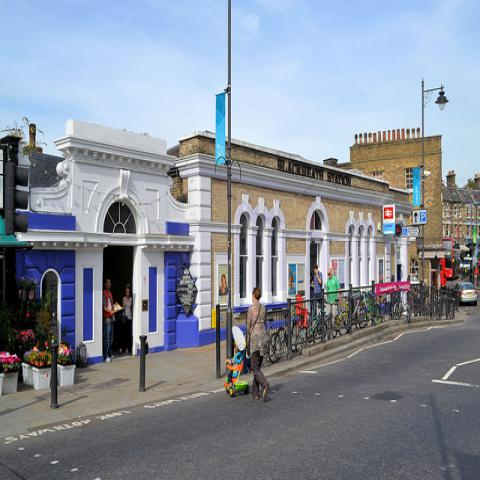bus: (442, 237, 460, 279), (441, 257, 447, 288)
car: (451, 282, 478, 306)
